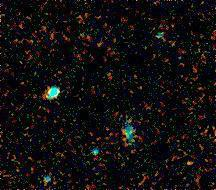star: (177, 152, 207, 182)
